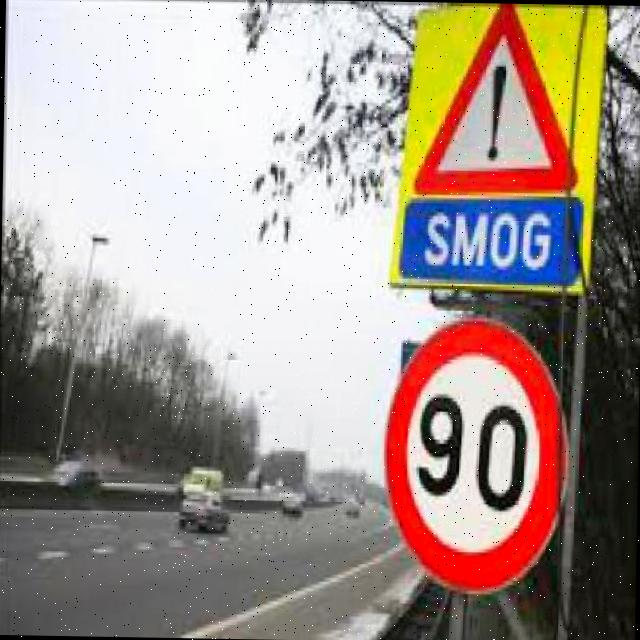Ograniczenie predkosci do 90: (382, 323, 564, 595)
